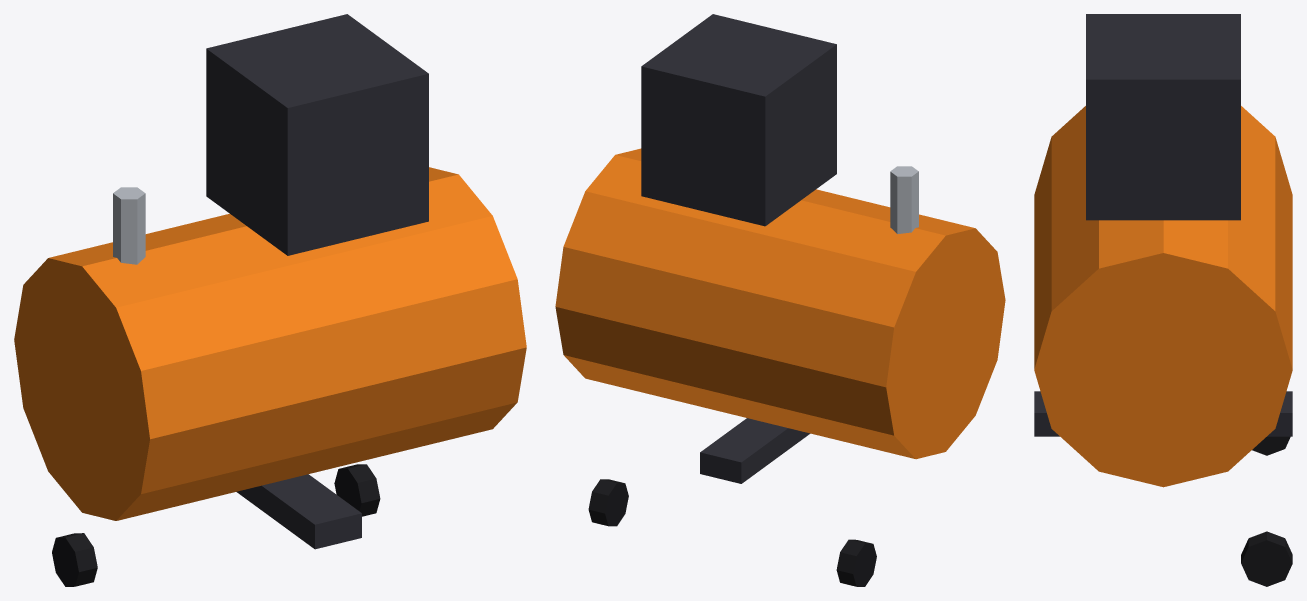
The model's file is garage_air_compressor.glb.
3 renders of one model, left to right at view 1: azimuth 30°, elevation 25°; view 2: azimuth 150°, elevation 25°; view 3: azimuth 270°, elevation 25°, orthographic. The views are drawn at different scales.
Parts seen in each view (by area): view 1: air_compressor; view 2: air_compressor; view 3: air_compressor.
Boxes of the visible parts, bbox=[...] form: air_compressor: bbox=[14, 14, 526, 586]; air_compressor: bbox=[555, 14, 1005, 586]; air_compressor: bbox=[1034, 14, 1292, 586].
Bounding box in the file's own units: 0.8 × 1.05 × 0.5.
